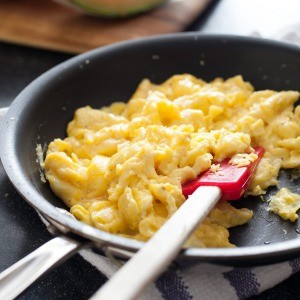egg_brain food: (93, 88, 223, 187)
